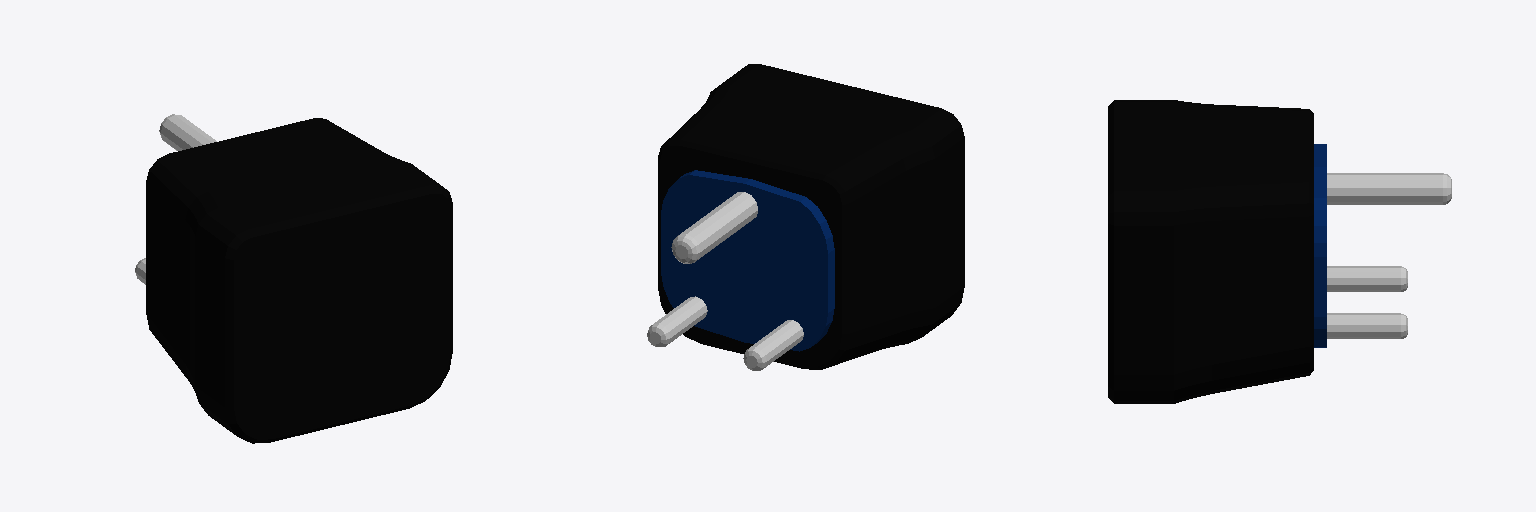
File: Plug_India.obj
3 views of the same model, side by side, from view 1: azimuth 30°, elevation 25°; view 2: azimuth 150°, elevation 25°; view 3: azimuth 270°, elevation 25° (orthographic).
Parts seen in each view (by area): view 1: Plane.002_Plug_Base.001, Circle.006_Plug_IN.002; view 2: Plane.002_Plug_Base.001, Circle.006_Plug_IN.002; view 3: Plane.002_Plug_Base.001, Circle.006_Plug_IN.002.
Part boxes in pixels (x1,y1,x2,y2): Plane.002_Plug_Base.001: (146,118,452,443); Circle.006_Plug_IN.002: (135,114,216,284); Plane.002_Plug_Base.001: (658,64,964,369); Circle.006_Plug_IN.002: (647,170,834,370); Plane.002_Plug_Base.001: (1108,100,1313,403); Circle.006_Plug_IN.002: (1314,144,1451,347).
Size of the model in its own units: 0.06 by 0.055 by 0.0786.